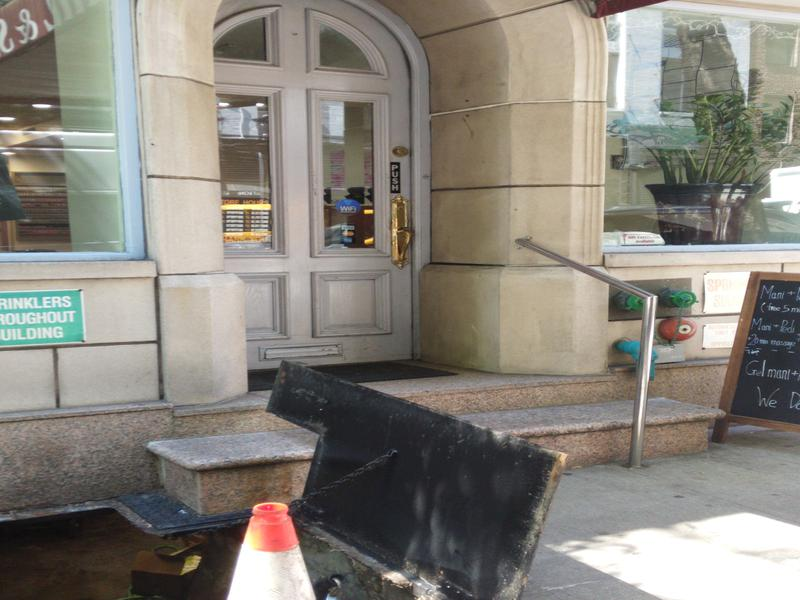door: (215, 5, 430, 368)
